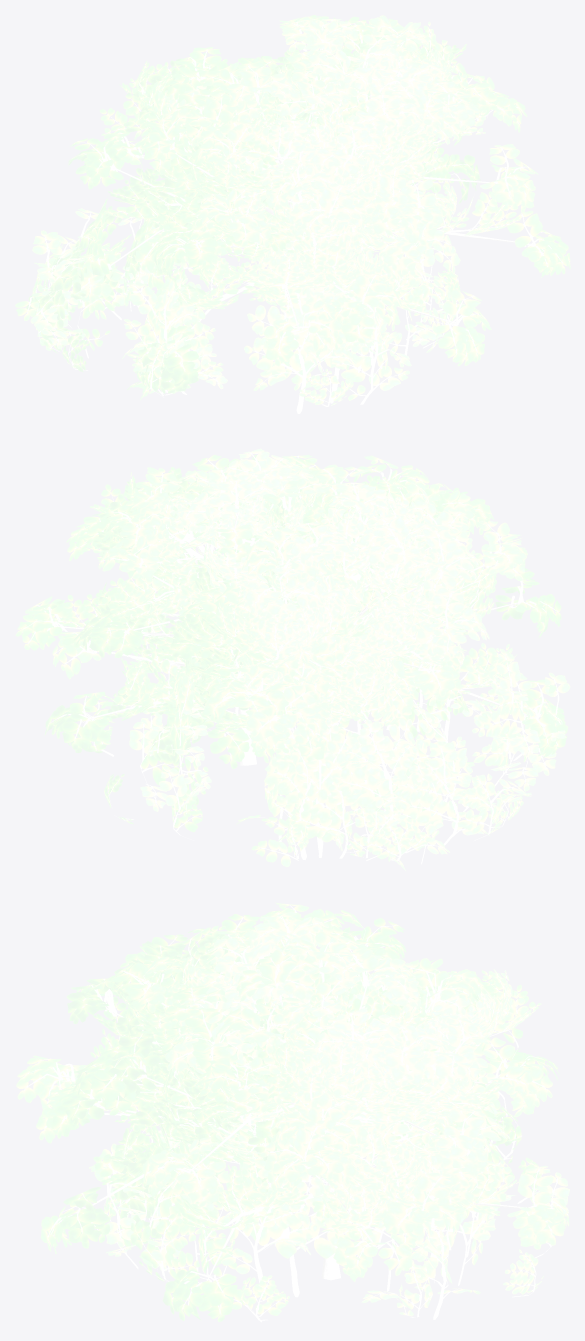
The picture shows the model from 3 angles, top to bottom: view 1: azimuth 30°, elevation 25°; view 2: azimuth 150°, elevation 25°; view 3: azimuth 270°, elevation 25°; orthographic projection. The views are drawn at different scales.
Visible parts, largest first — view 1: SM_Bush_02_LOD0; view 2: SM_Bush_02_LOD0; view 3: SM_Bush_02_LOD0.
Boxes of the visible parts, bbox=[...] form: SM_Bush_02_LOD0: bbox=[15, 15, 570, 413]; SM_Bush_02_LOD0: bbox=[15, 448, 570, 870]; SM_Bush_02_LOD0: bbox=[16, 902, 569, 1322].
Bounding box in the file's own units: 3.26 × 2.13 × 2.98.
Materials: 1 (1 with a texture image).
